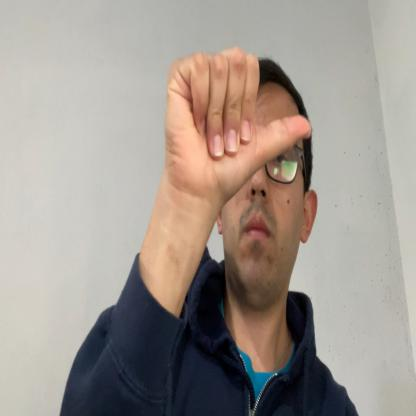A: (165, 48, 312, 189)
